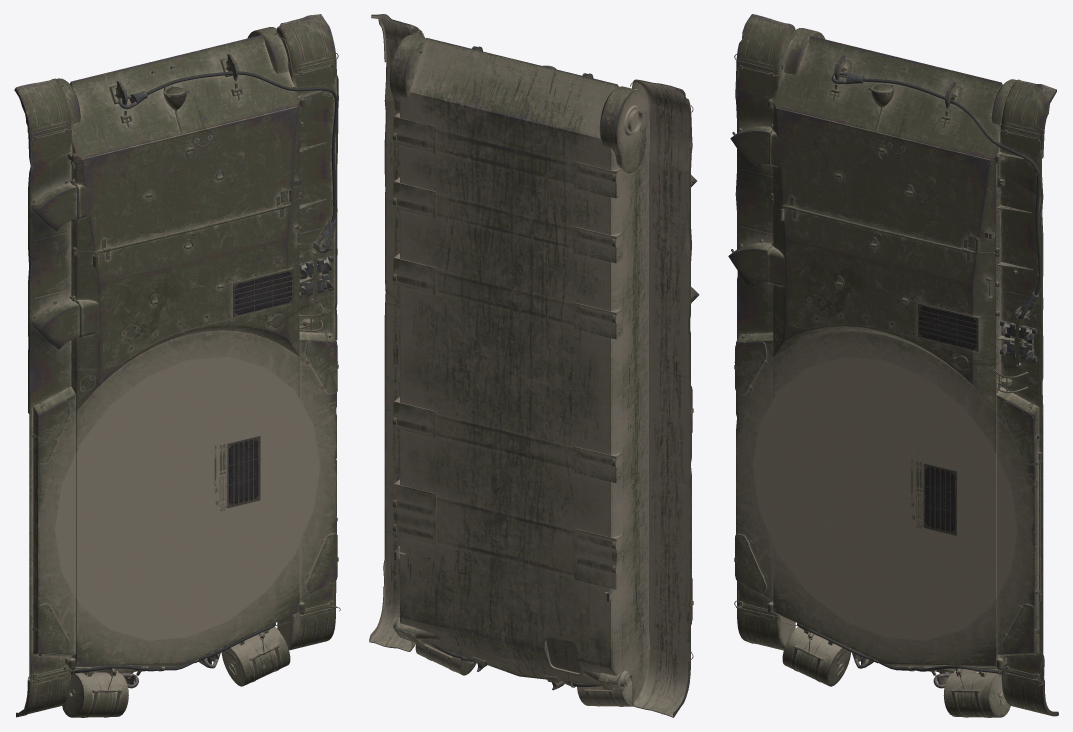
File: Hull.glb
3 renders of one model, left to right at view 1: azimuth 30°, elevation 25°; view 2: azimuth 150°, elevation 25°; view 3: azimuth 330°, elevation 25°, orthographic.
Parts seen in each view (by area): view 1: set_0_group_0; view 2: set_0_group_0; view 3: set_0_group_0.
Part boxes in pixels (bbox=[...]): set_0_group_0: bbox=[14, 14, 340, 717]; set_0_group_0: bbox=[369, 14, 699, 717]; set_0_group_0: bbox=[728, 14, 1058, 717].
Bounding box in the file's own units: 3.28 × 6.53 × 0.8875.
1 material, 1 textured.
